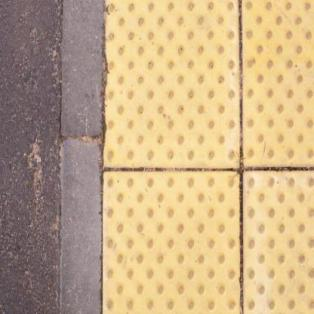Podoctatil: (101, 0, 313, 313)
